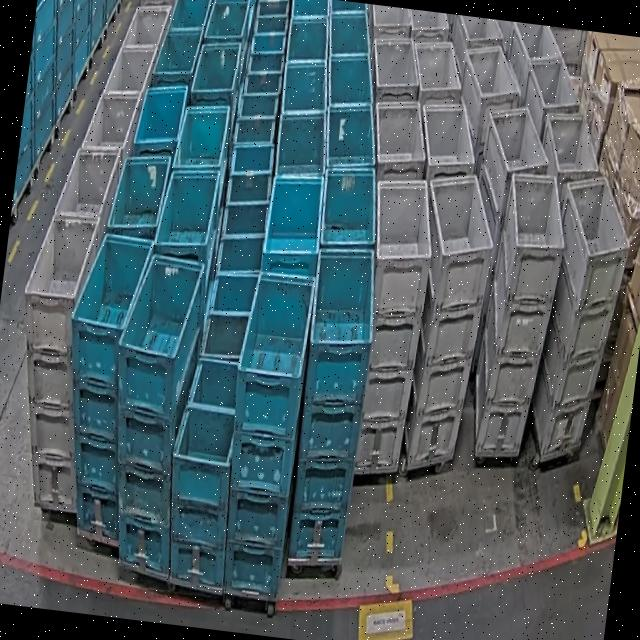4G: (0, 207, 112, 513), (394, 169, 502, 473), (526, 170, 638, 462), (466, 168, 572, 458), (342, 174, 440, 473)
B4: (90, 249, 212, 576), (44, 229, 156, 540), (210, 270, 316, 597), (280, 242, 382, 564)
B8: (157, 355, 250, 588)
